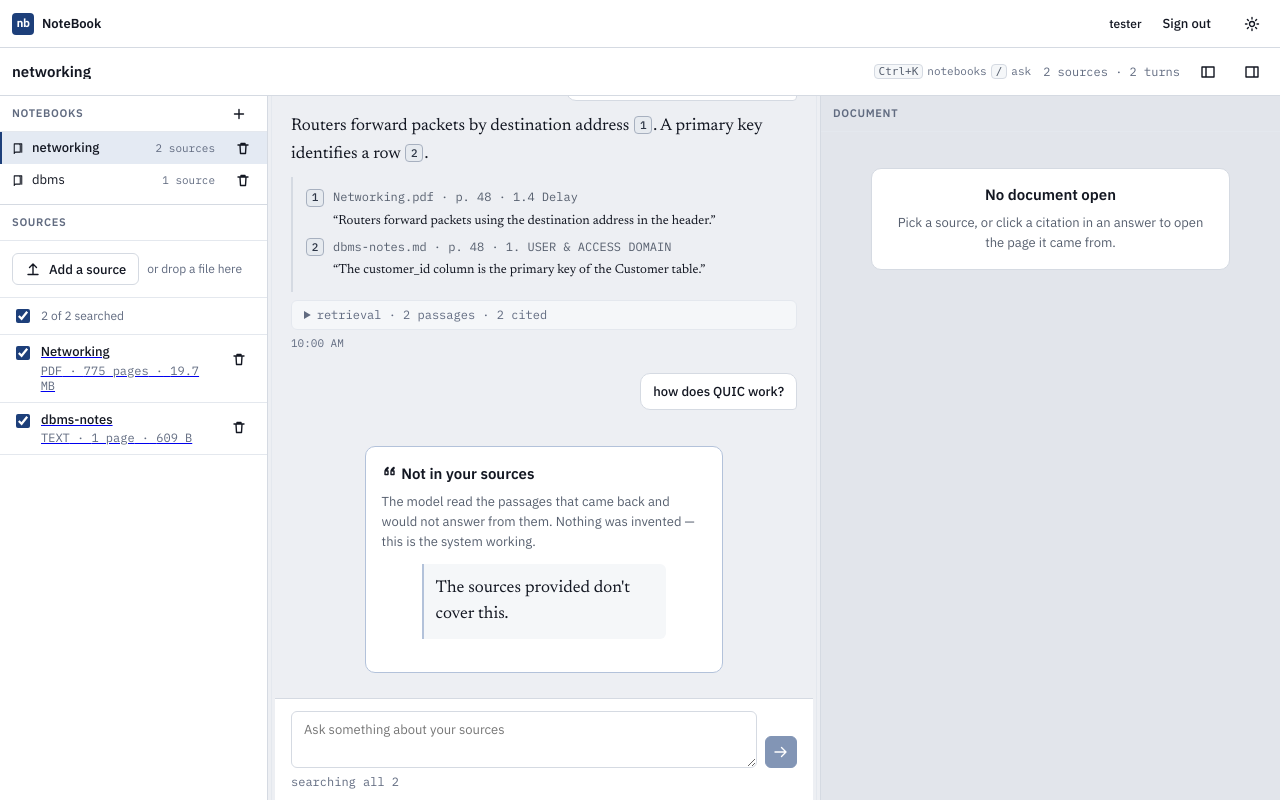
asking a question › shows a real countdown on a rate limit, derived from the server's delay
(page scrolled)
Check: the text "2 of 2 searched" is shown, box [41,310,124,322]
Type "too many questions" into the text box named "Your question" at (524, 740), box [291,711,757,768]
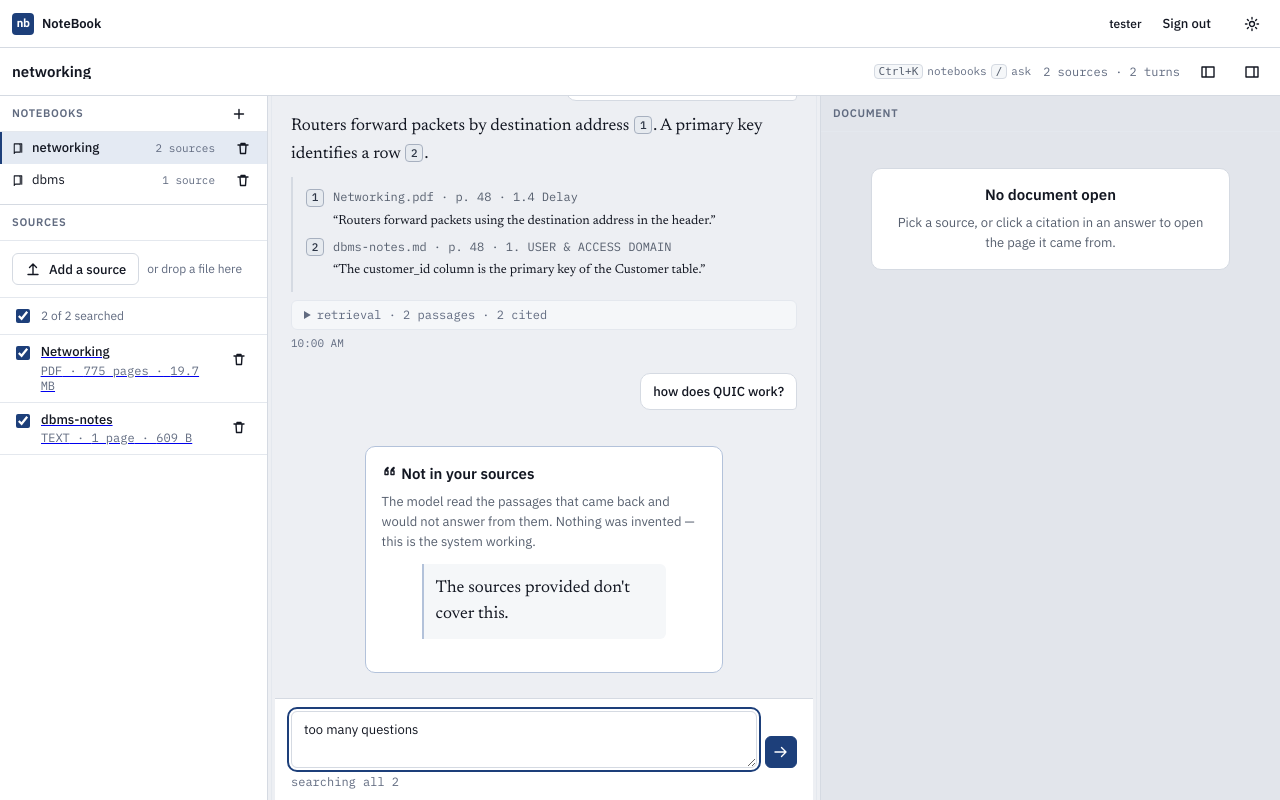
Click the button named "Send" at (781, 752), box [765,736,797,768]
(page scrolled)
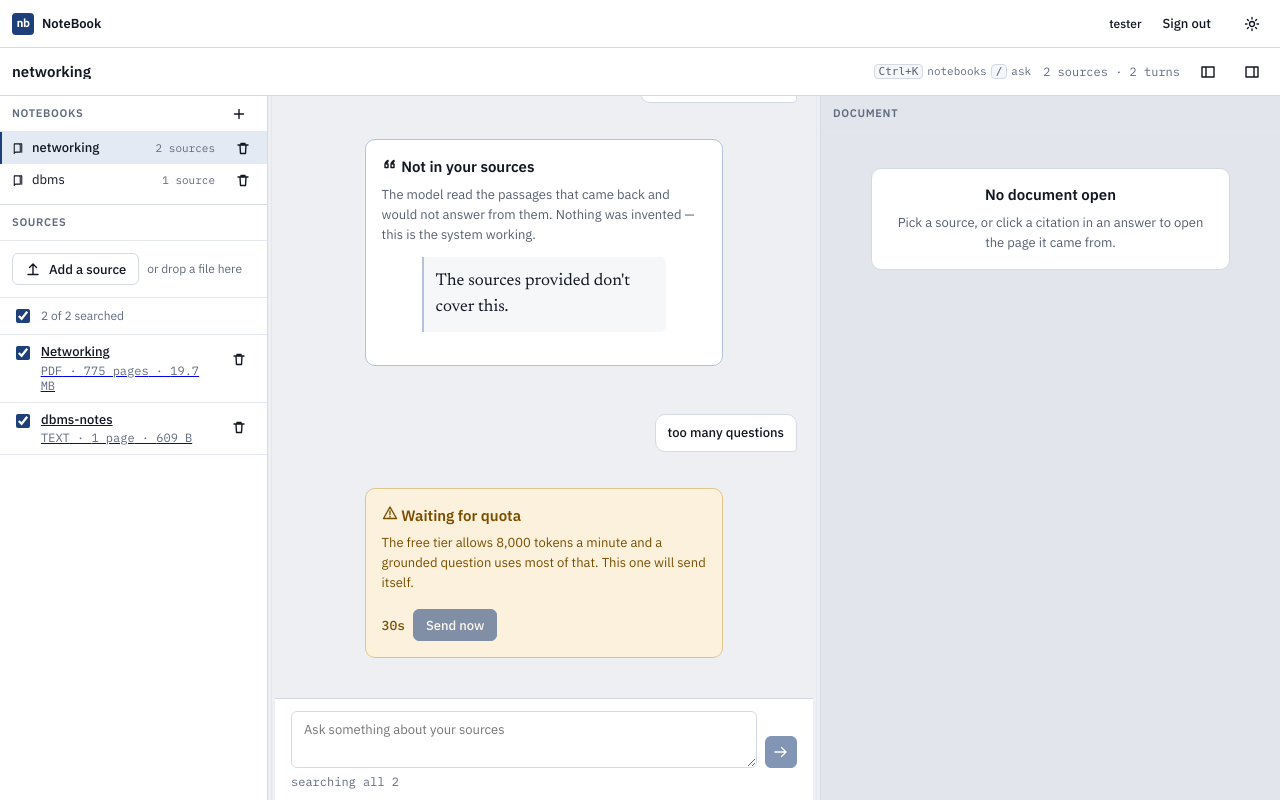
Check: the text "Waiting for quota" is shown, box [382,504,521,525]
Check: the text "30s" is shown, box [382,619,405,632]
